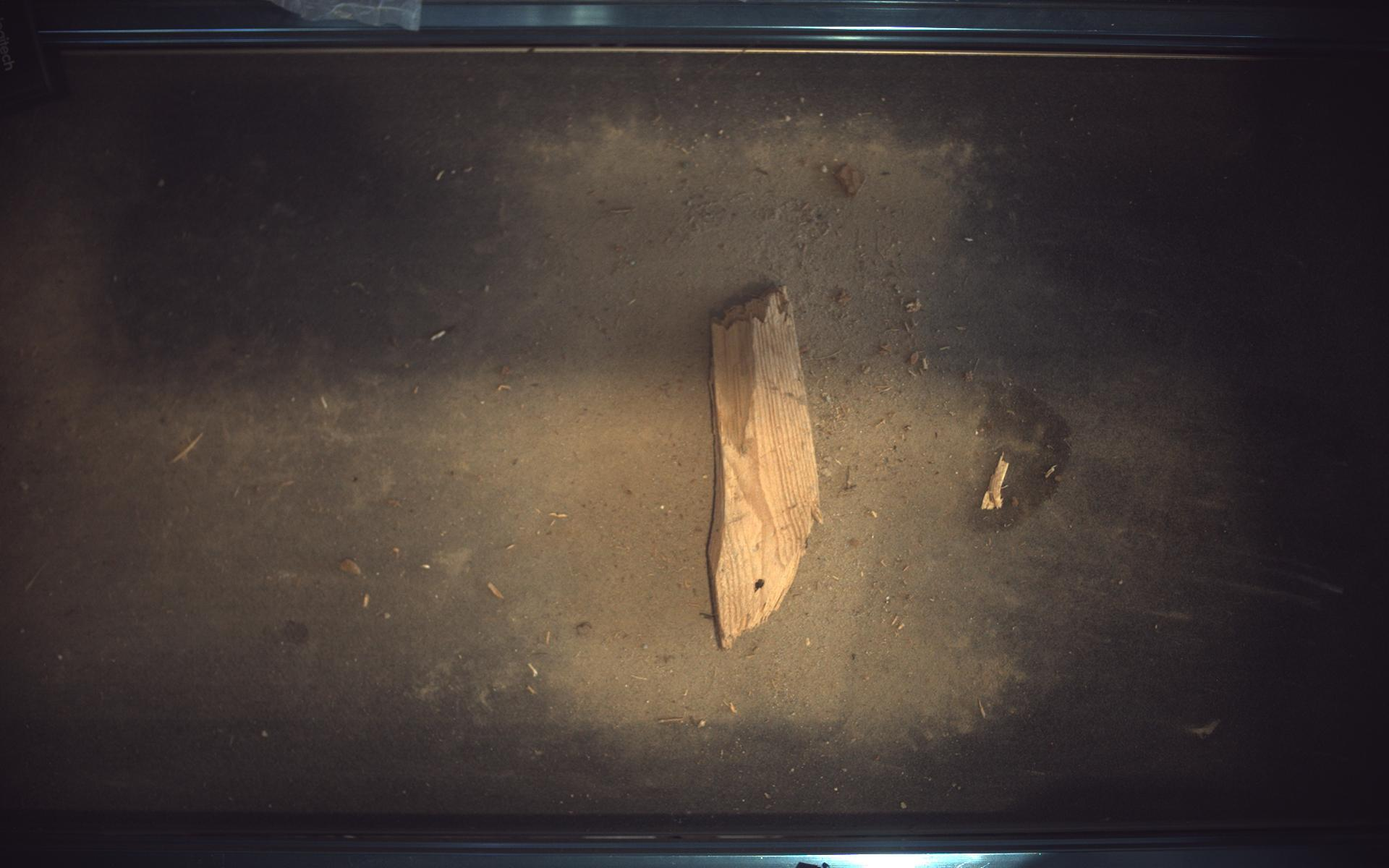wood: (709, 286, 823, 650)
